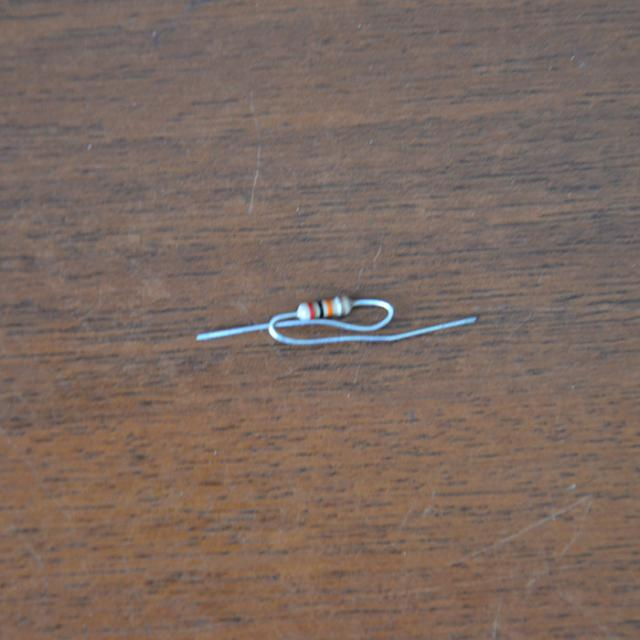black: (319, 302, 324, 317)
gold: (339, 295, 345, 315)
orange: (327, 299, 334, 315)
red: (307, 302, 315, 318)
resistor: (292, 291, 358, 325)
